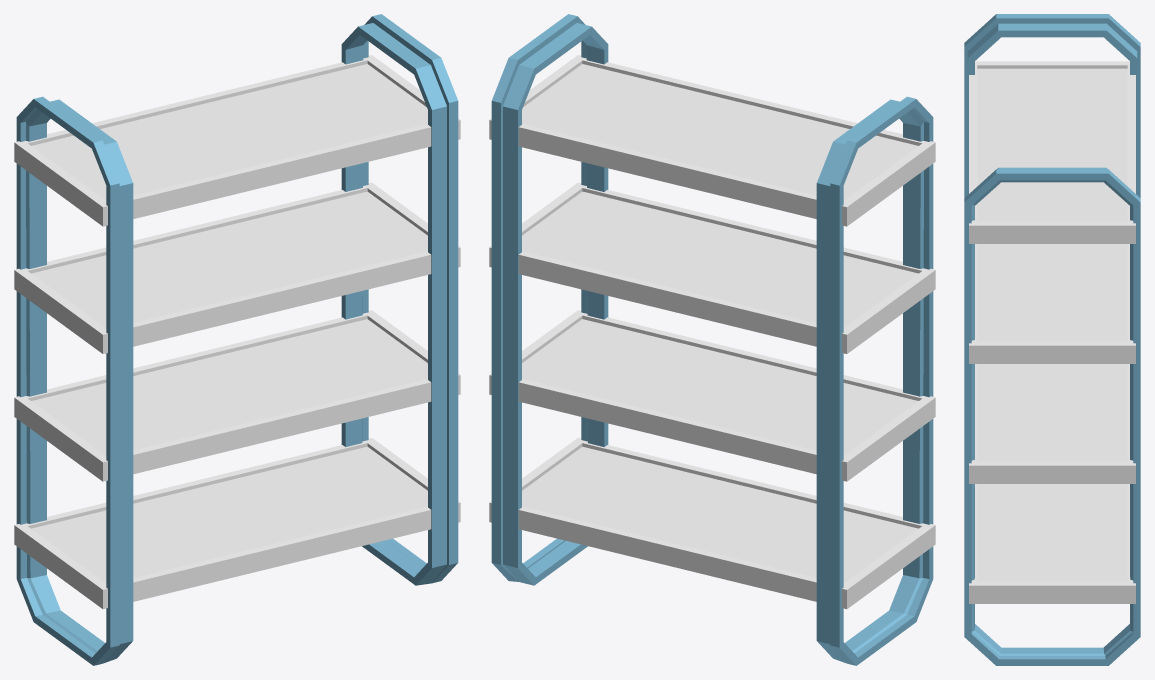
Rendered from Props_Shelf.001.fbx.
3 views of the same model, side by side, from view 1: azimuth 30°, elevation 25°; view 2: azimuth 150°, elevation 25°; view 3: azimuth 270°, elevation 25° (orthographic). The views are drawn at different scales.
Parts seen in each view (by area): view 1: Props_Shelf.001; view 2: Props_Shelf.001; view 3: Props_Shelf.001.
Boxes of the visible parts, left/top/right/bottom form: Props_Shelf.001: left=14, top=14, right=460, bottom=665; Props_Shelf.001: left=489, top=14, right=935, bottom=665; Props_Shelf.001: left=964, top=14, right=1140, bottom=665.
Bounding box in the file's own units: 1.25 × 1.75 × 0.5676.
